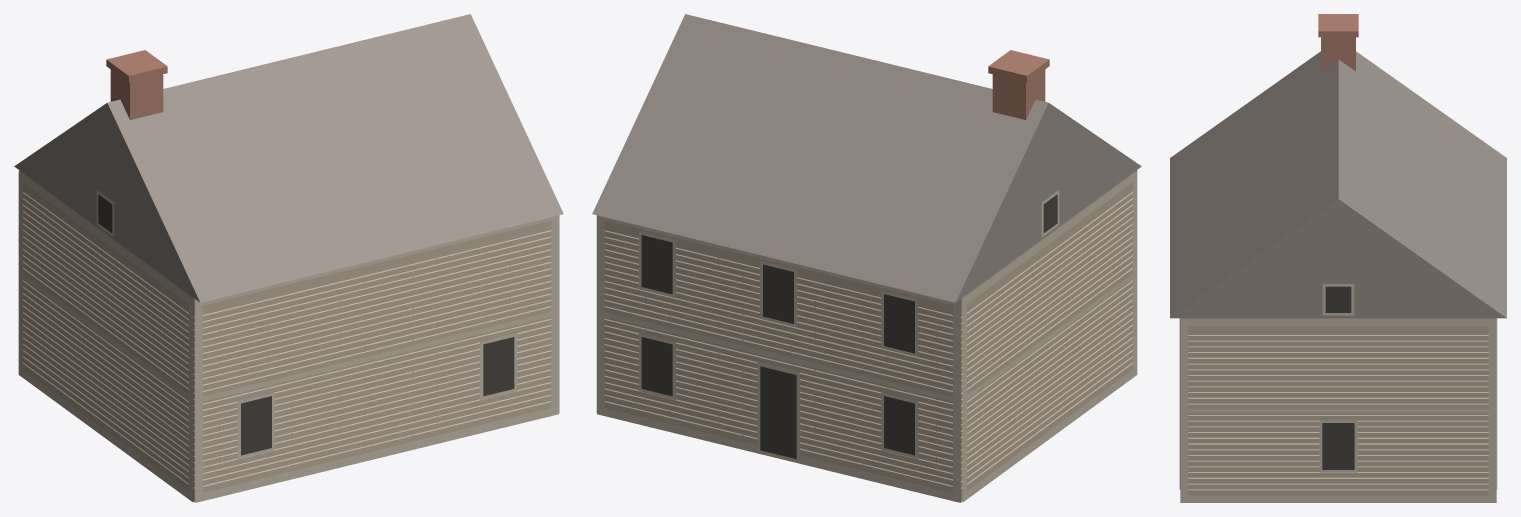
Rendered from temple_building__frame_1833.glb.
The picture shows the model from 3 angles, left to right: view 1: azimuth 30°, elevation 25°; view 2: azimuth 150°, elevation 25°; view 3: azimuth 270°, elevation 25°; orthographic projection. The views are drawn at different scales.
Visible parts, largest first — view 1: temple_building__frame_1833; view 2: temple_building__frame_1833; view 3: temple_building__frame_1833.
Part boxes in pixels (bbox=[...]): temple_building__frame_1833: bbox=[14, 14, 563, 502]; temple_building__frame_1833: bbox=[592, 14, 1141, 502]; temple_building__frame_1833: bbox=[1170, 14, 1506, 502].
Size of the model in its own units: 9.24 by 8.85 by 8.12.
